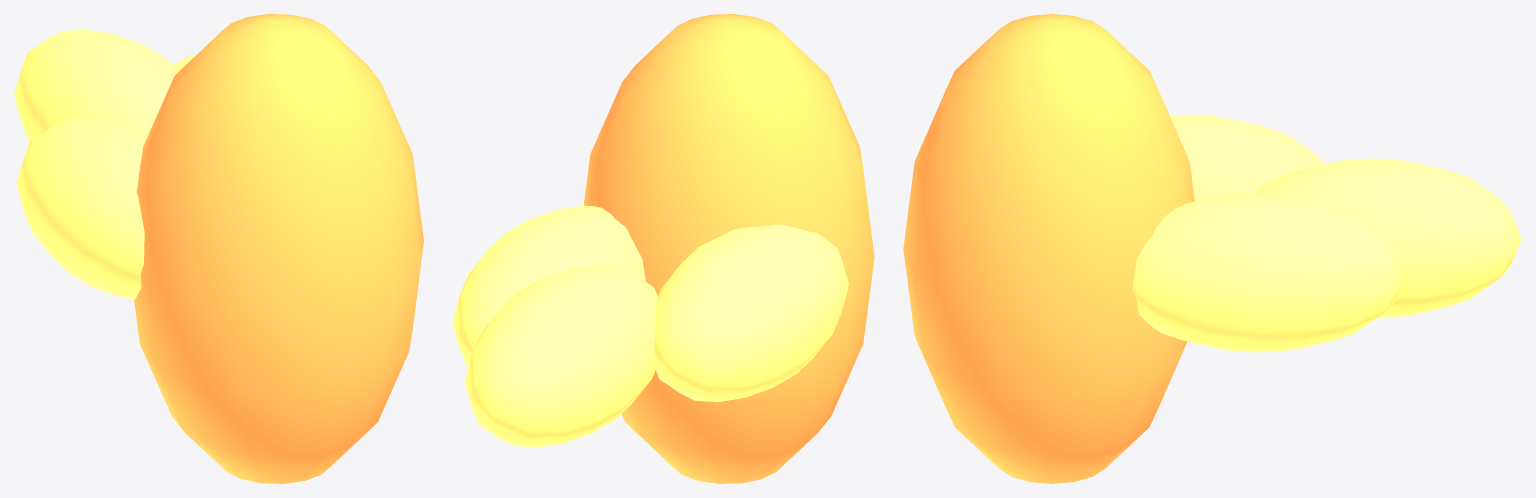
Rendered from fireball.glb.
3 renders of one model, left to right at view 1: azimuth 30°, elevation 25°; view 2: azimuth 150°, elevation 25°; view 3: azimuth 270°, elevation 25°, orthographic.
Visible parts, largest first — view 1: Projectile core, Flame, Flame.002; view 2: Projectile core, Flame.002, Flame, Flame.001; view 3: Projectile core, Flame.001, Flame.002, Flame.
Boxes of the visible parts, box(x1,y1,x2,y2) form: Projectile core: box(134, 14, 423, 483); Flame: box(16, 118, 147, 299); Flame.002: box(14, 29, 176, 142); Projectile core: box(583, 14, 874, 483); Flame.002: box(464, 264, 657, 447); Flame: box(654, 224, 848, 402); Flame.001: box(452, 205, 645, 366); Projectile core: box(903, 14, 1194, 483); Flame.001: box(1132, 192, 1406, 352); Flame.002: box(1255, 158, 1521, 318); Flame: box(1170, 115, 1323, 201).
Size of the model in its own units: 0.3 by 0.44 by 0.54.
